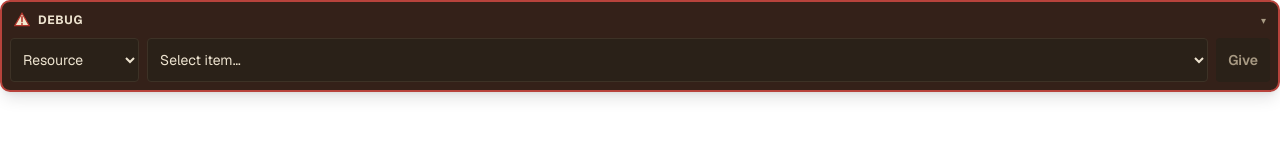
Test case: DebugPanel › grants the selected resource and reports success
Select "Wood" in the 2nd dropdown. click: (678, 60)
box: [147, 38, 1208, 82]
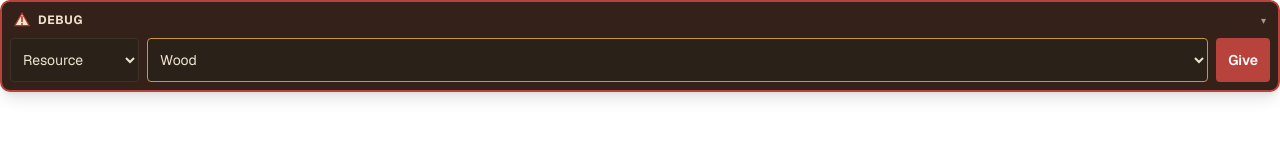
Click the button "Give". click: (1243, 60)
box: [1216, 38, 1270, 82]
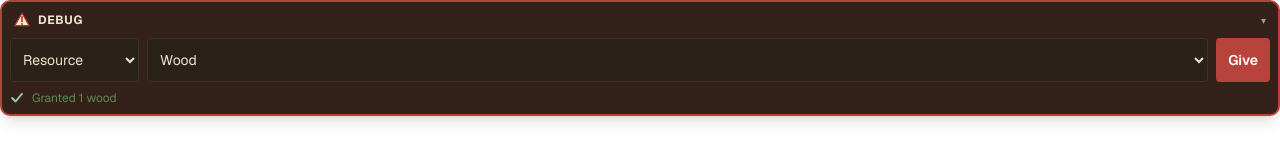
Expected: the message reads "Granted 1 wood", [32, 90, 117, 106]
